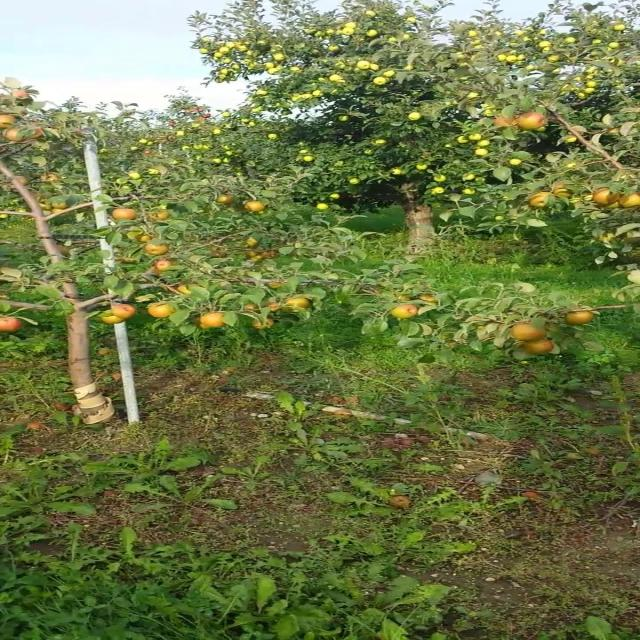apple: (511, 322, 547, 341), (4, 126, 44, 142), (520, 339, 556, 355), (516, 112, 547, 130), (591, 188, 620, 206), (147, 302, 176, 318), (564, 310, 593, 325), (391, 304, 420, 319), (200, 312, 224, 329), (111, 304, 136, 319), (618, 191, 640, 208), (529, 191, 551, 208), (144, 242, 171, 255), (98, 311, 124, 324), (551, 182, 573, 197), (284, 296, 311, 308), (2, 128, 24, 142), (111, 208, 136, 220), (149, 208, 171, 221), (244, 200, 267, 212), (493, 116, 516, 128), (251, 318, 276, 329), (153, 259, 173, 272), (153, 259, 173, 271), (196, 314, 213, 328), (0, 114, 16, 128), (216, 194, 236, 205), (40, 172, 62, 182), (260, 249, 280, 259), (247, 251, 264, 262), (420, 294, 438, 304), (11, 89, 29, 99), (264, 301, 280, 312), (136, 232, 153, 242), (244, 238, 260, 248), (29, 128, 44, 138), (51, 201, 69, 209), (13, 176, 29, 185), (244, 302, 260, 311), (562, 135, 578, 144), (269, 280, 284, 289), (176, 284, 189, 294), (244, 250, 260, 258), (211, 250, 227, 258), (607, 128, 620, 134)
